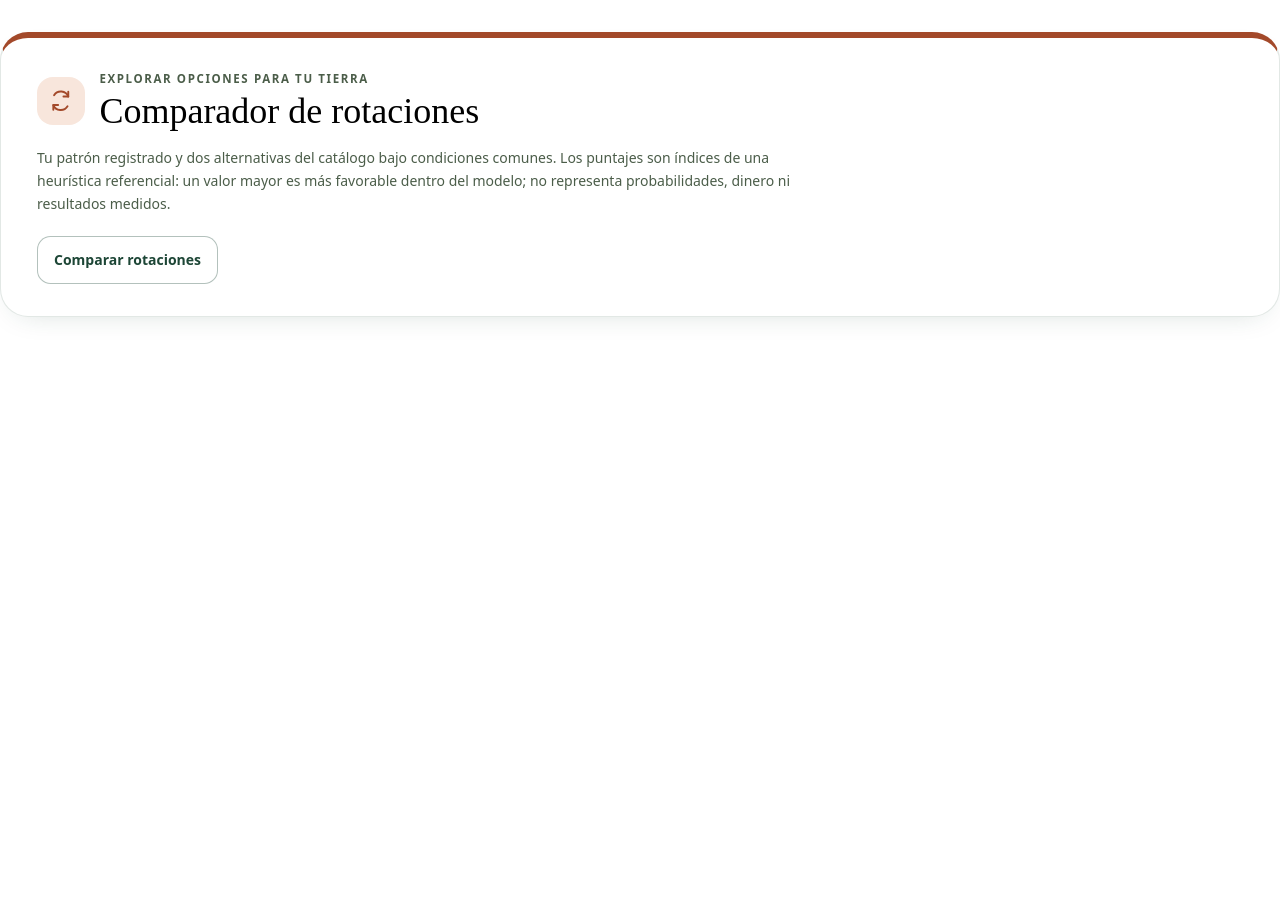
Scenario: Comparador: tres tarjetas, límites, errores y sesiones › sin información fiable conserva indicadores nulos y posiciones no determinadas
This screenshot has width=1280, height=899.
Click the button "Comparar rotaciones" at (128, 260), box [37, 236, 218, 284]
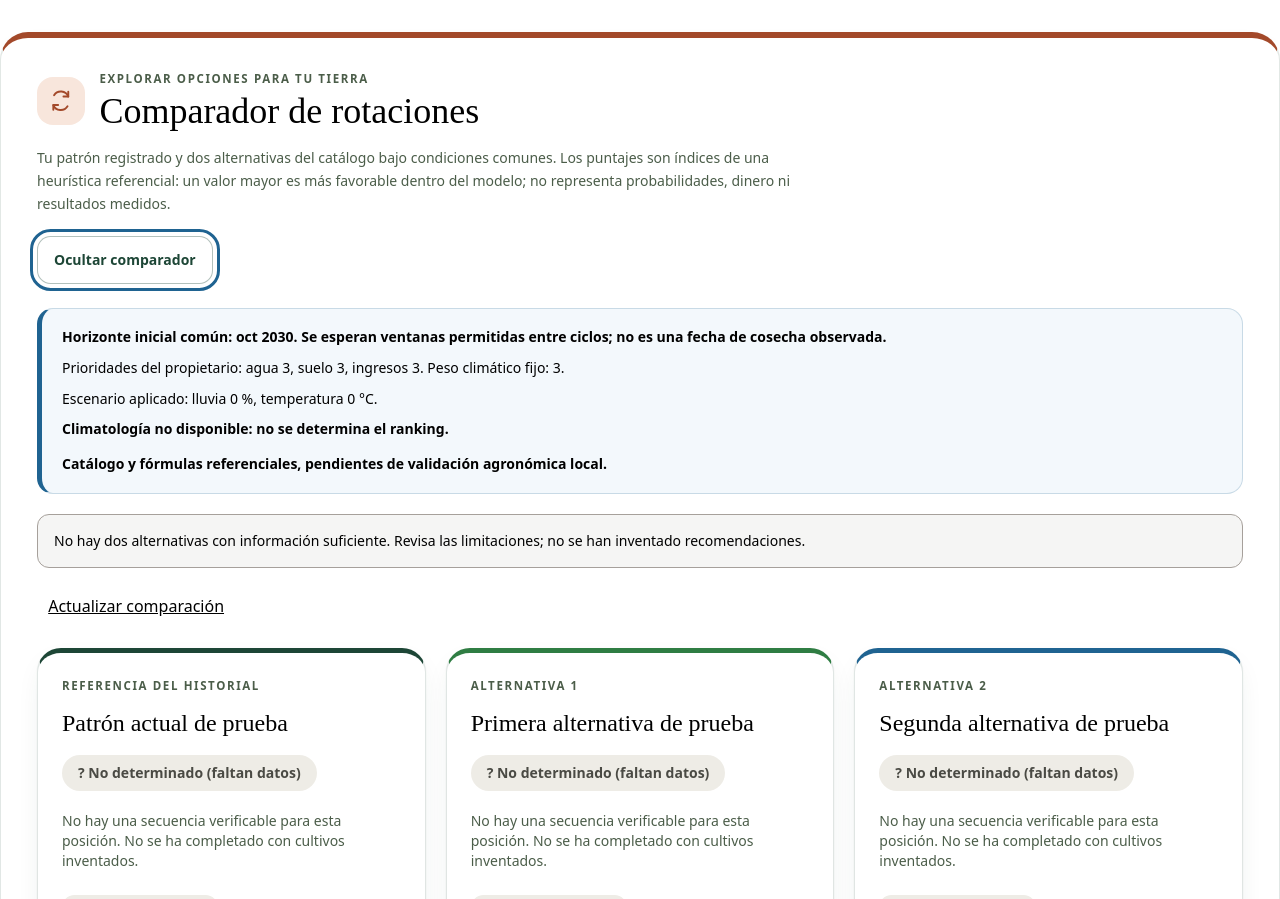
Expected: the text "Climatología no disponible: no se determina el ranking." is shown, [62, 419, 449, 438]
